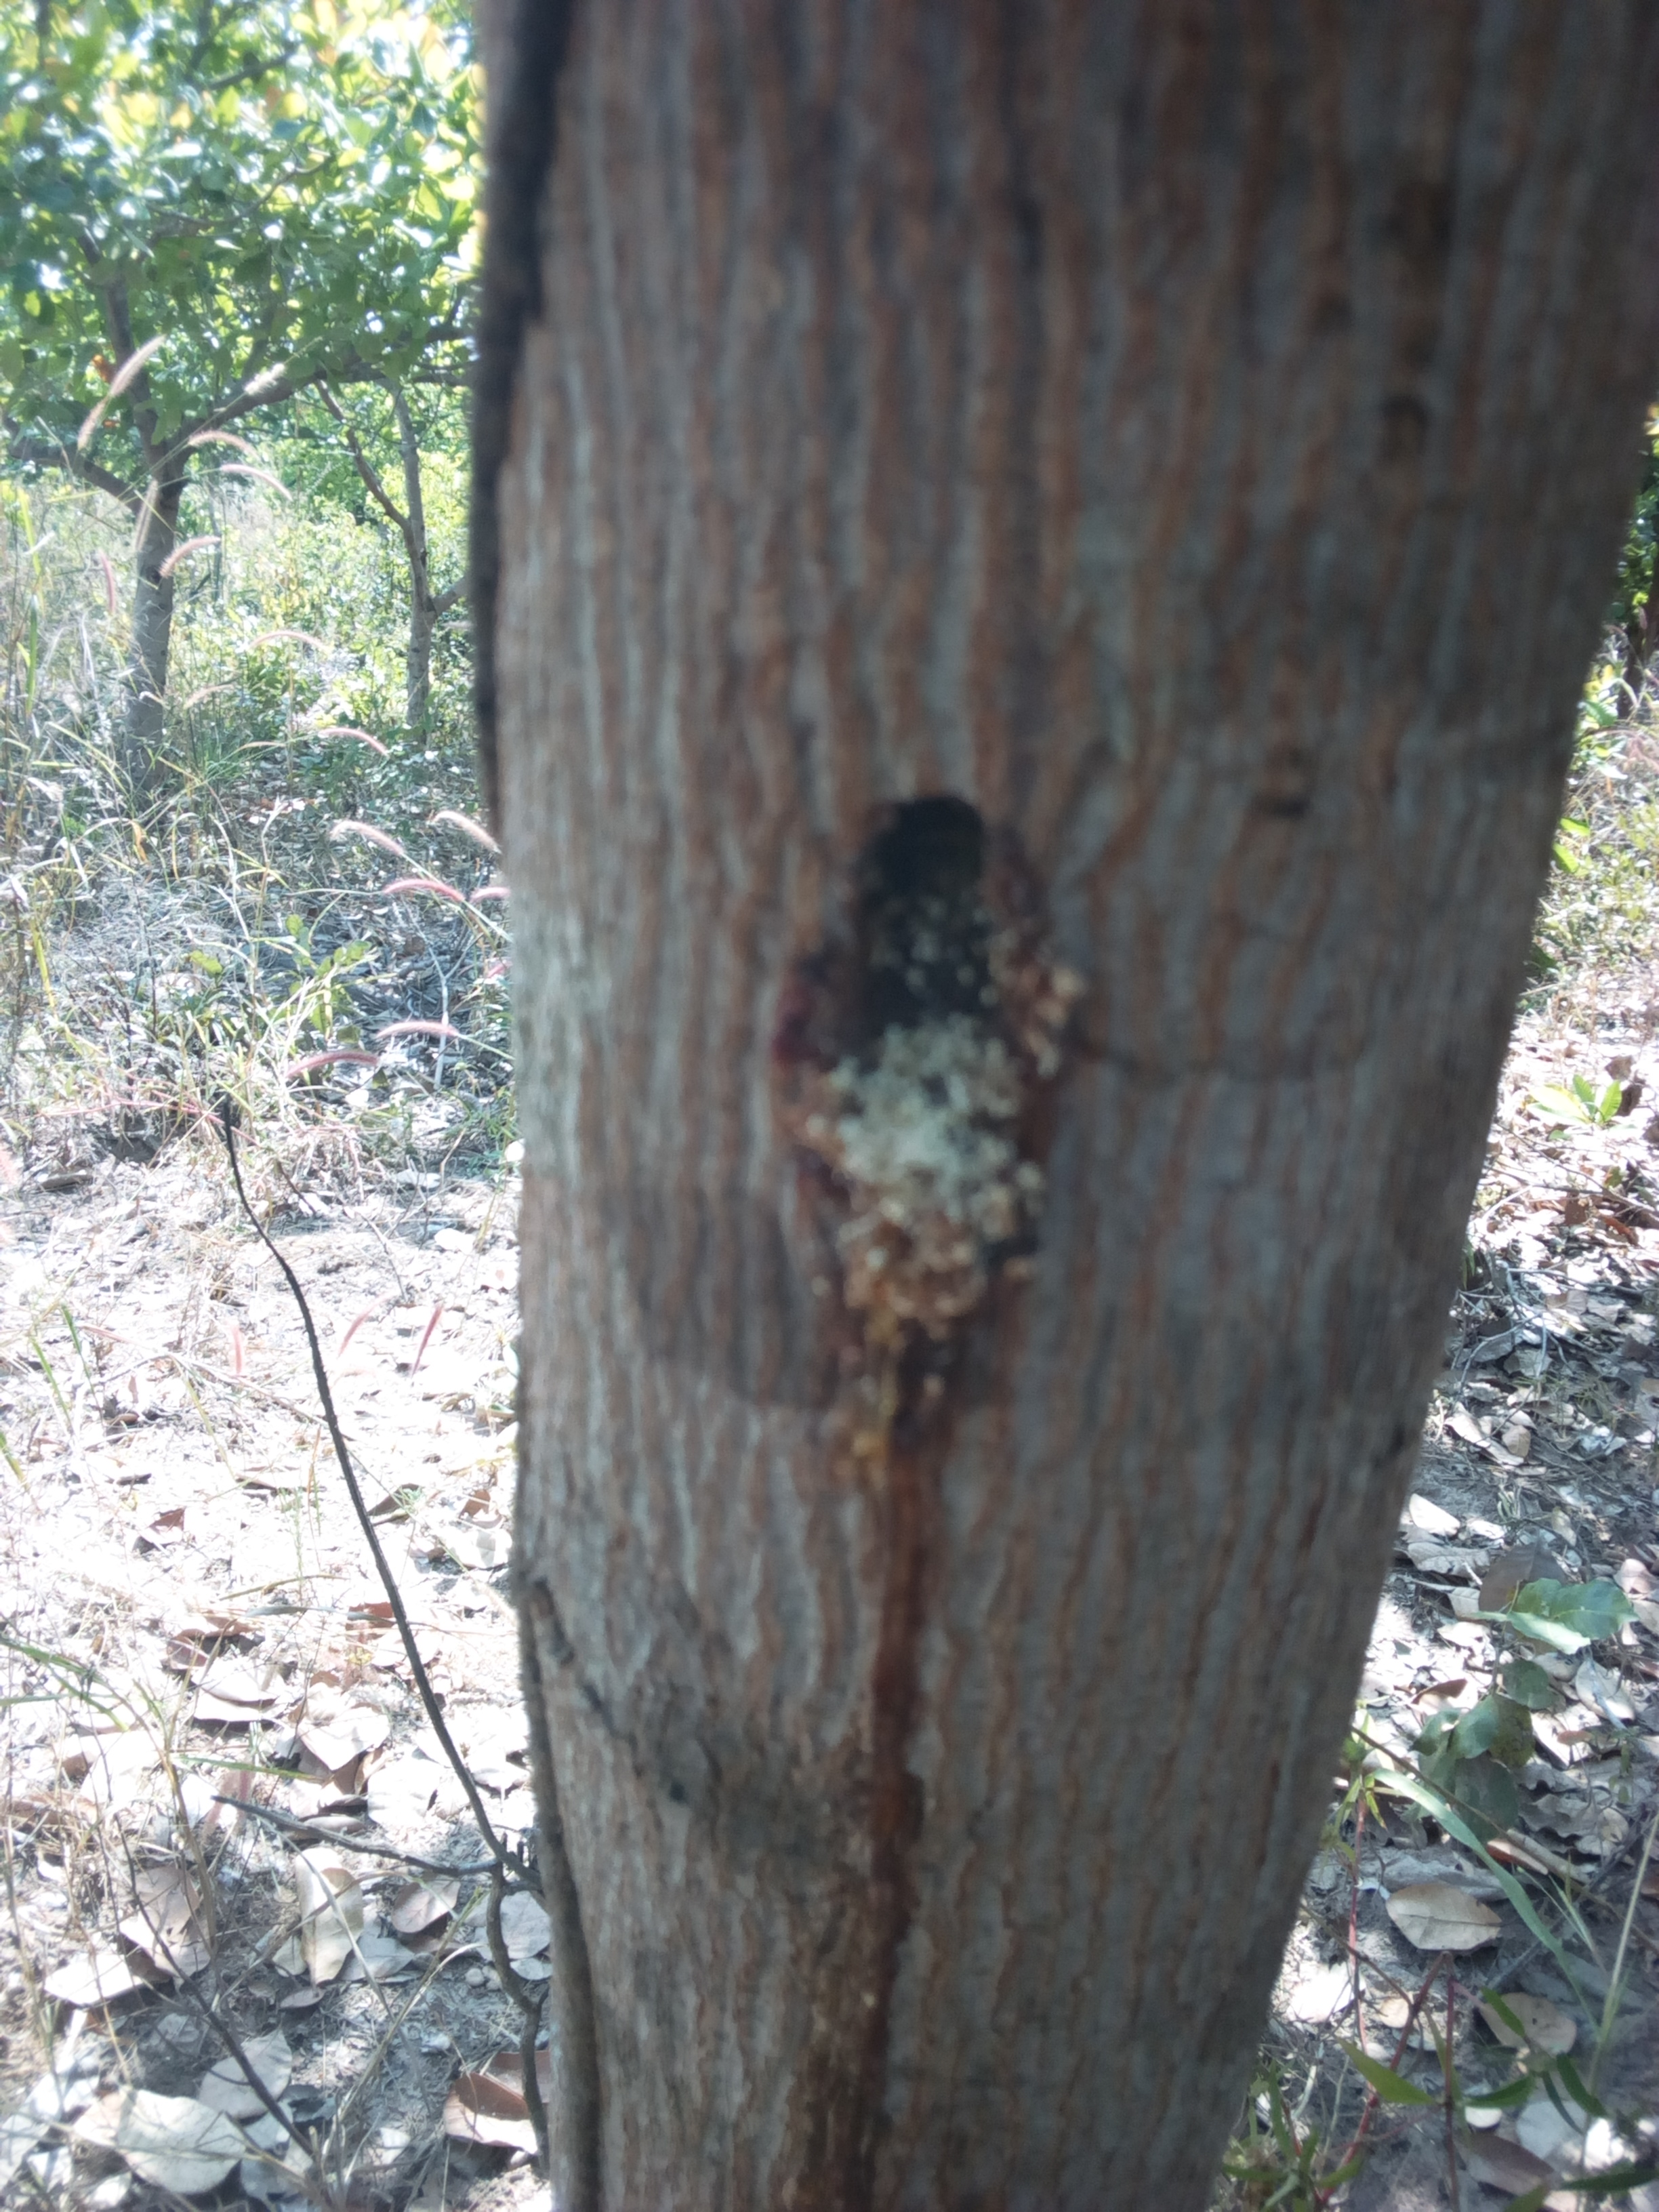Apate terebrans: (762, 754, 1178, 1042)
